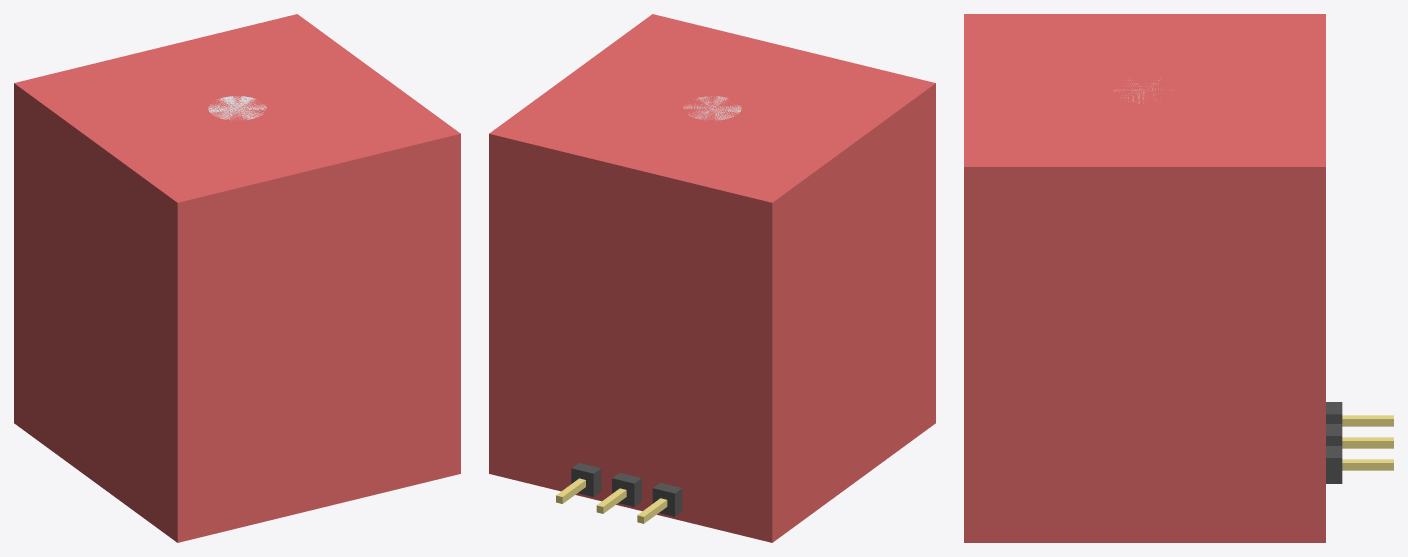
Rendered from bldc-motor-2205-2300kv.glb.
3 renders of one model, left to right at view 1: azimuth 30°, elevation 25°; view 2: azimuth 150°, elevation 25°; view 3: azimuth 270°, elevation 25°, orthographic. The views are drawn at different scales.
Visible parts, largest first — view 1: bldc-motor-2205-2300kv_mesh; view 2: bldc-motor-2205-2300kv_mesh; view 3: bldc-motor-2205-2300kv_mesh.
Boxes of the visible parts, bbox=[...] form: bldc-motor-2205-2300kv_mesh: bbox=[14, 14, 460, 542]; bldc-motor-2205-2300kv_mesh: bbox=[489, 14, 935, 542]; bldc-motor-2205-2300kv_mesh: bbox=[964, 14, 1393, 542].
Size of the model in its own units: 27.9 by 32 by 33.15.
